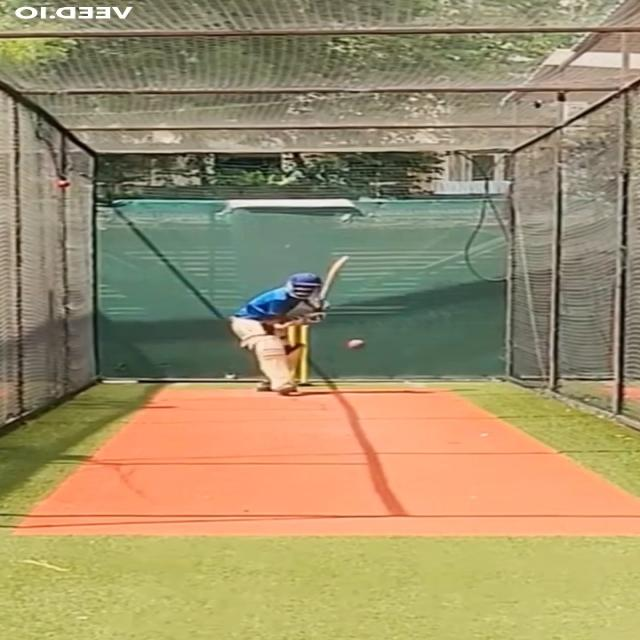ball: (346, 338, 368, 352)
stump: (285, 324, 312, 388)
